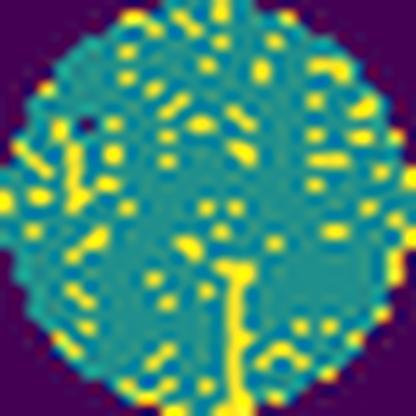Scratch: (207, 254, 259, 416)
